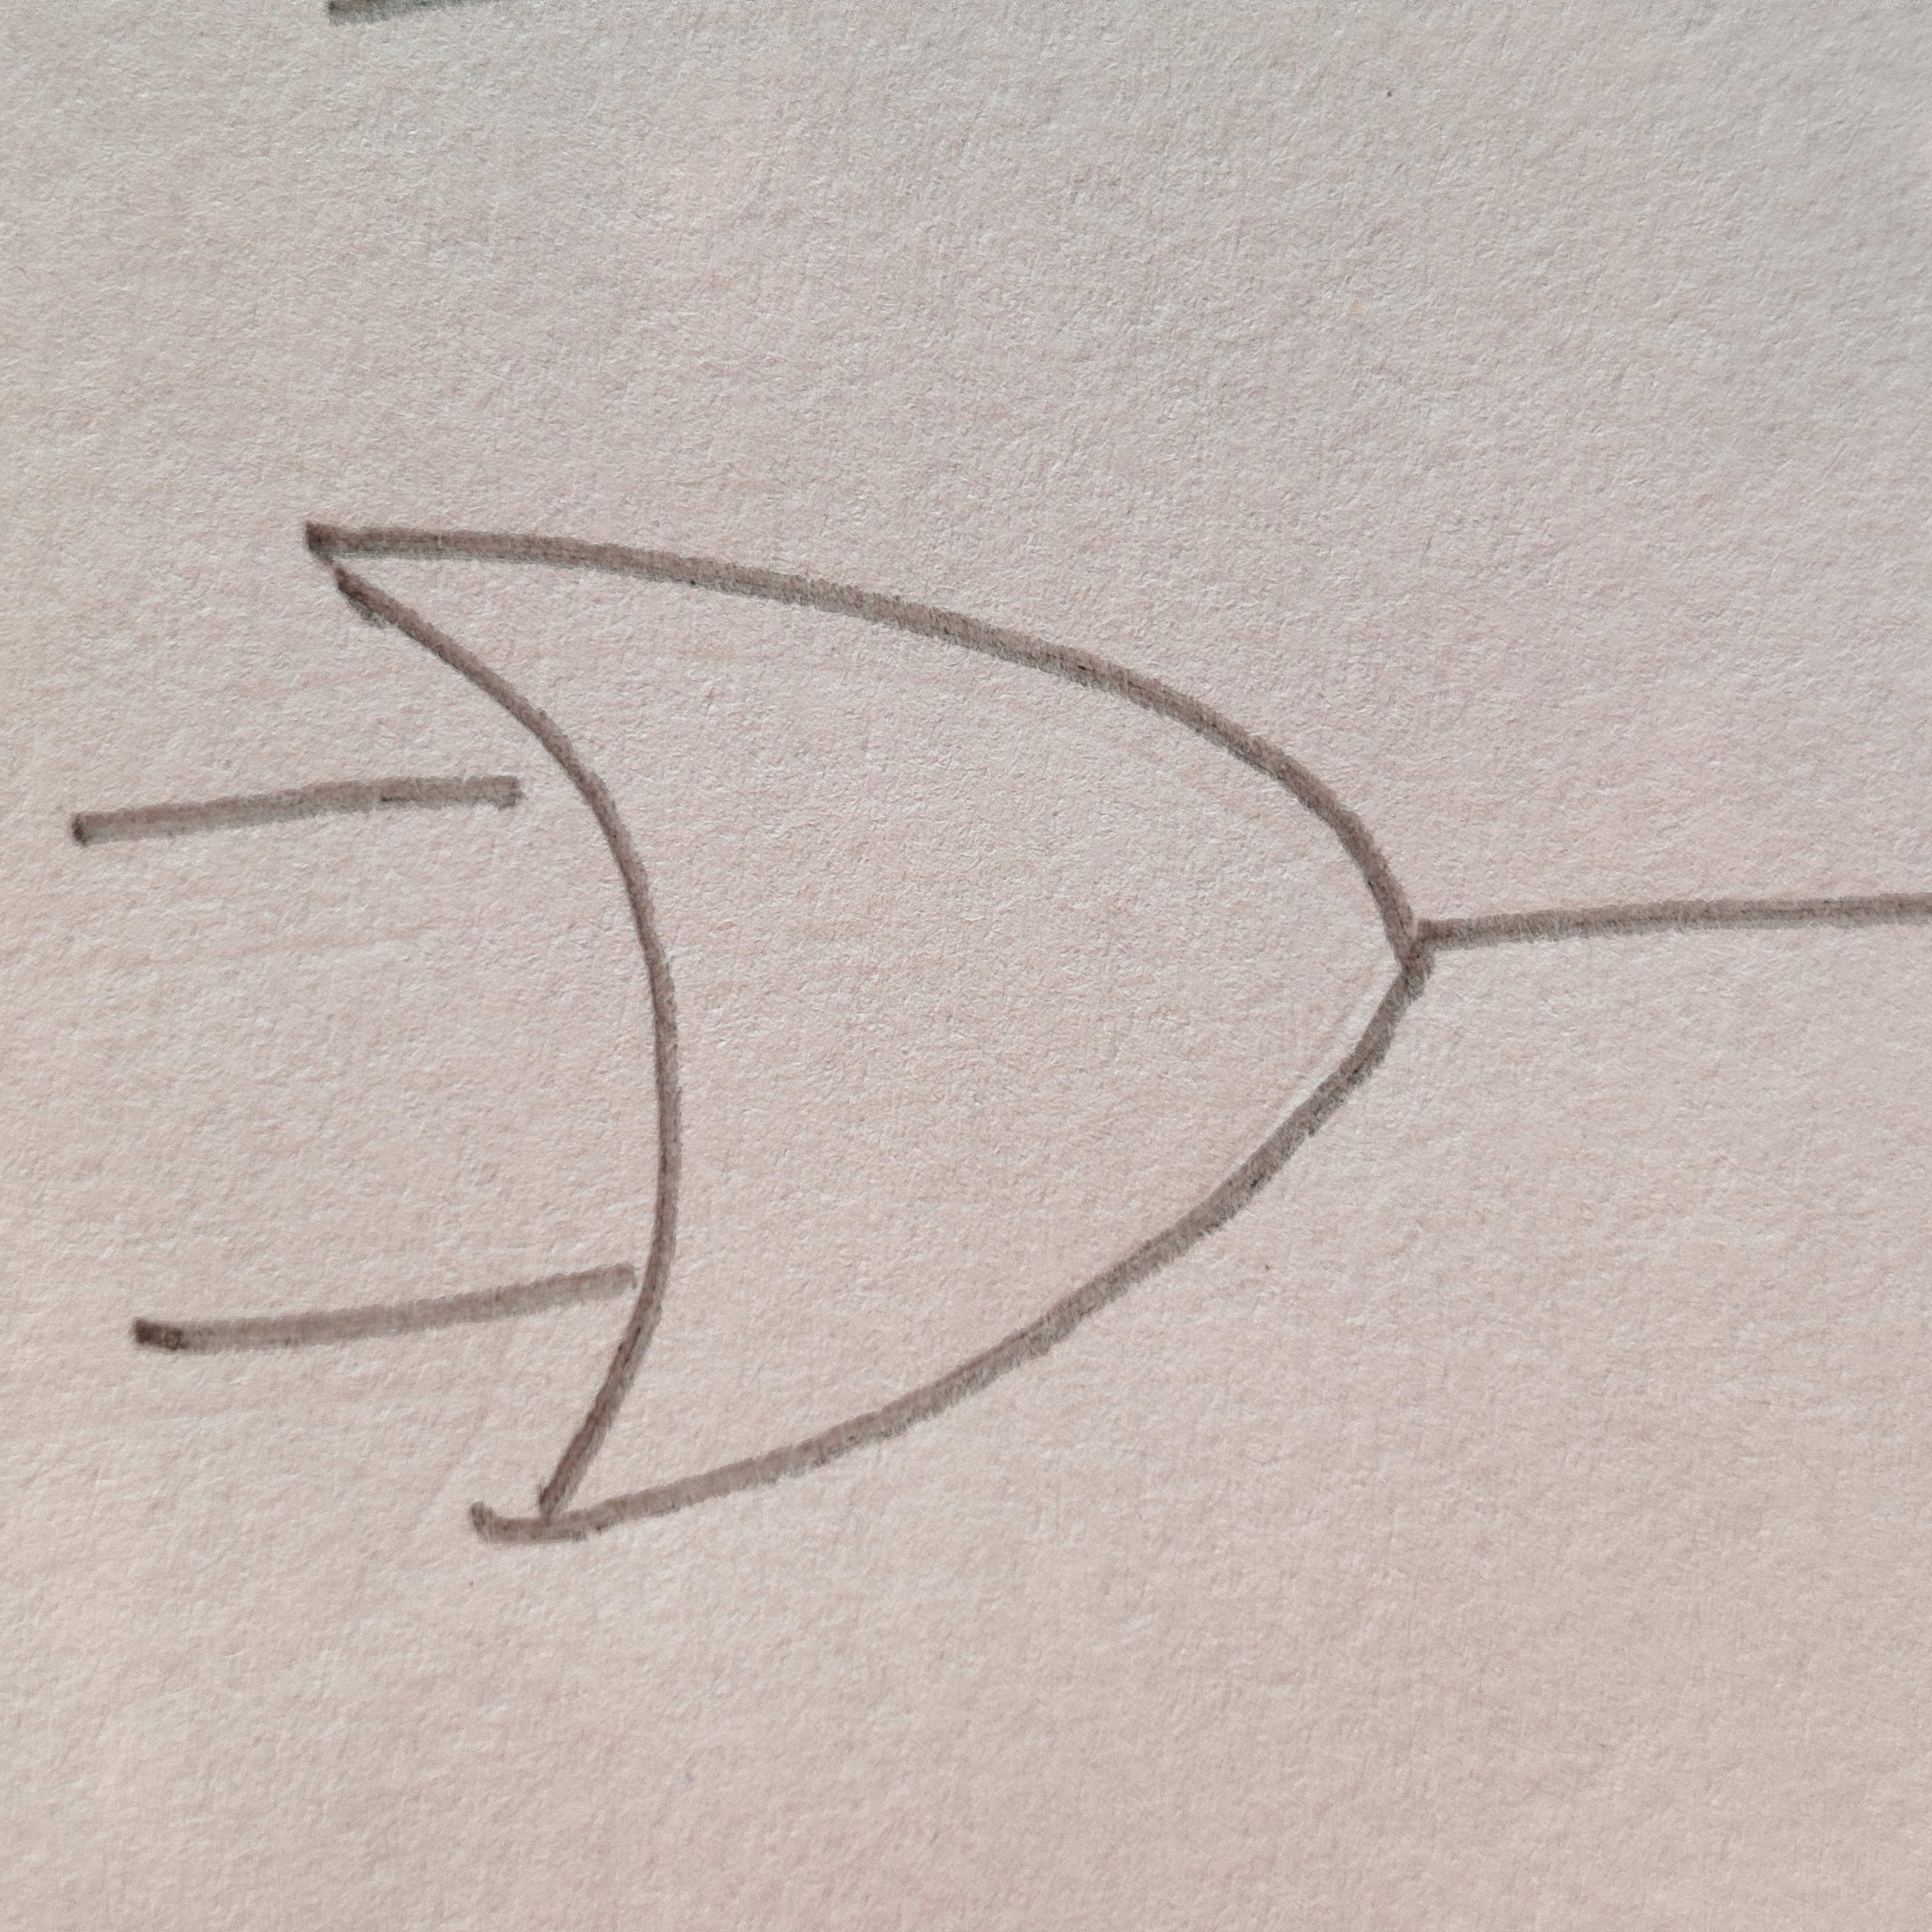or: (303, 522, 1426, 1545)
